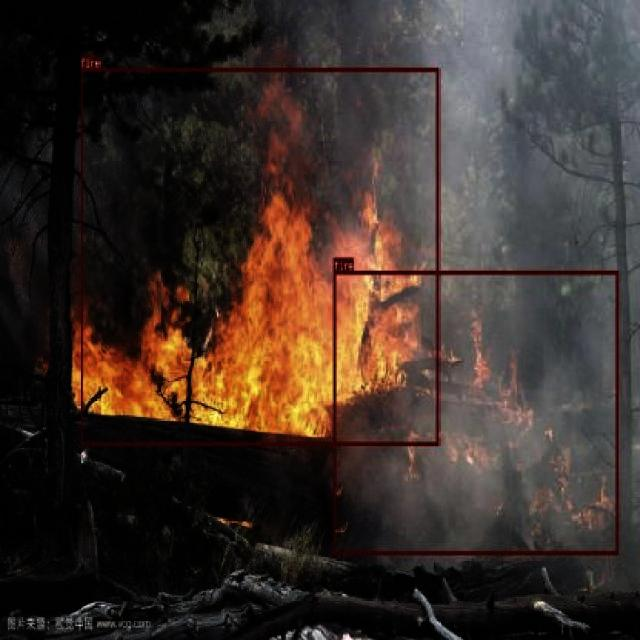fire: (80, 68, 438, 444), (333, 270, 618, 555)
